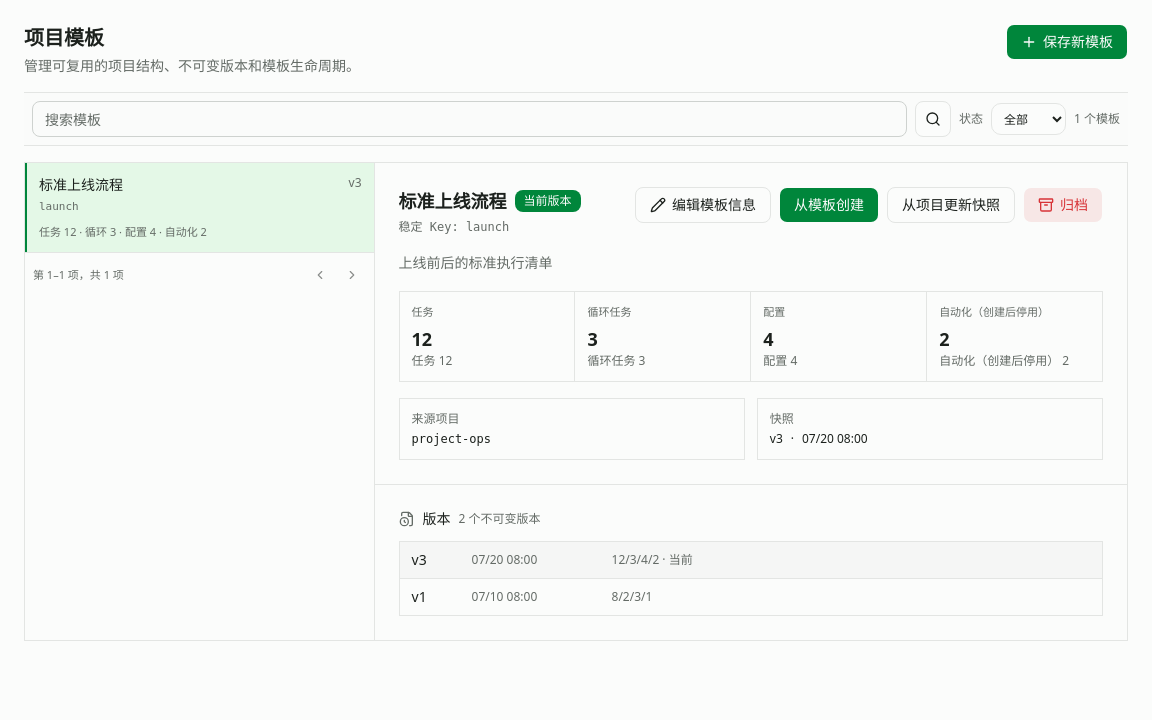
Test: ProjectTemplateLibraryPage › archives an active template through the typed endpoint
This screenshot has width=1152, height=720.
Click the button "归档".
click(1063, 205)  # box [1023,187,1103,223]
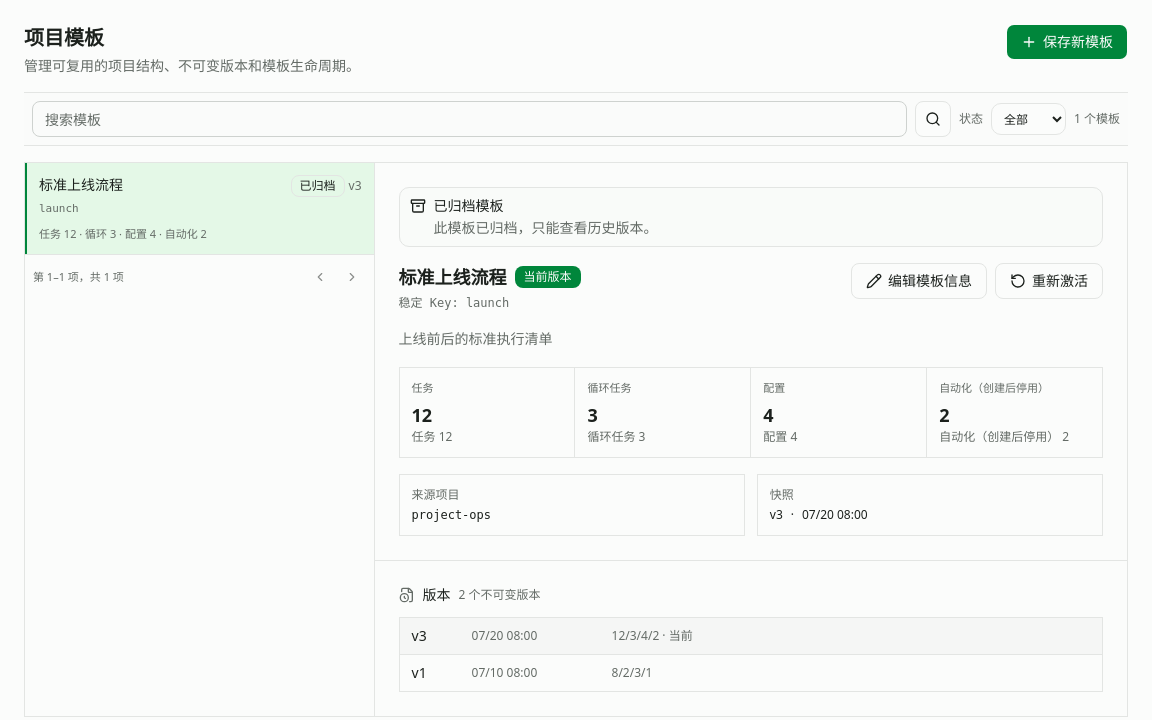
Now the text "此模板已归档，只能查看历史版本。" is shown, box [434,218,658,237]
Now the button "从模板创建" is gone
Now the button "从项目更新快照" is gone
